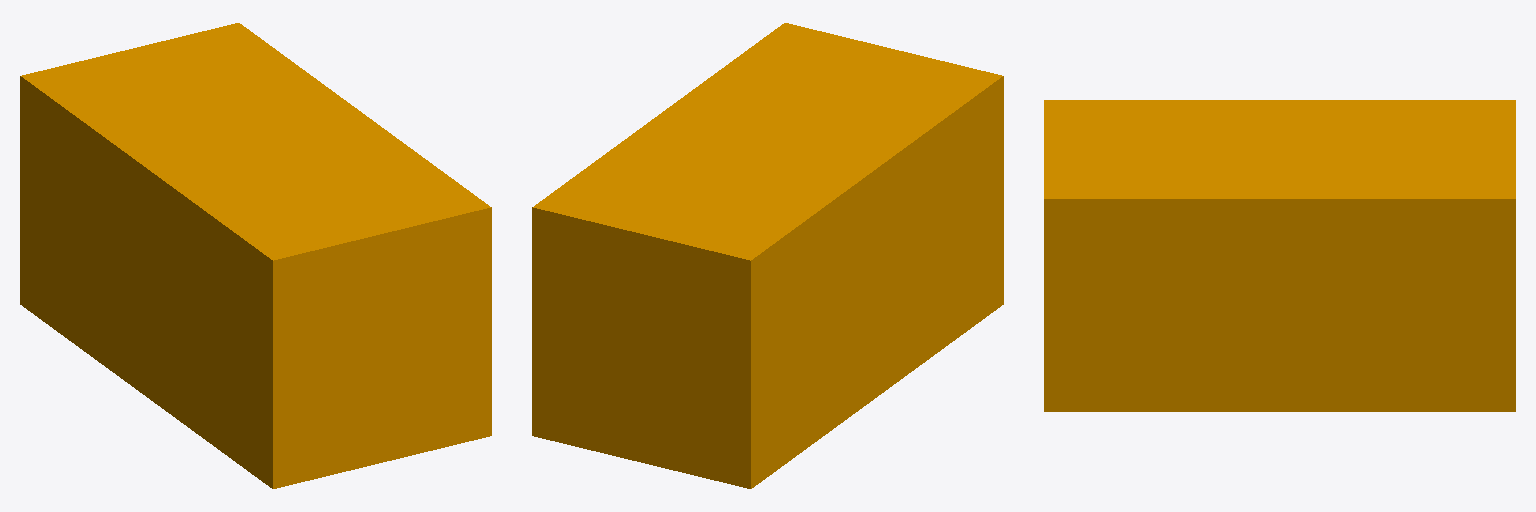
The robot description file, URDF, robot "cuboid":
<?xml version="1.0"?>
<robot name="cuboid">
  <link name="base_link">
    <contact>
      <lateral_friction value="1.5"/>
      <rolling_friction value="0.0"/>
      <contact_cfm value="0.0"/>
      <contact_erp value="1.0"/>
    </contact>
    <inertial>
      <mass value="0.035"/>
      <inertia ixx="1" ixy="0" ixz="0" iyy="1" iyz="0" izz="1"/>
    </inertial>
    <visual>
      <geometry>
        <box size="0.03 0.06 0.03"/>
      </geometry>
    </visual>
    <collision>
      <geometry>
        <box size="0.03 0.06 0.03"/>
      </geometry>
    </collision>
  </link>
</robot>

--- What the picture shows (computed from the rendered views, not written in the file) ---
The picture shows the robot from 3 angles, left to right: view 1: azimuth 30°, elevation 25°; view 2: azimuth 150°, elevation 25°; view 3: azimuth 270°, elevation 25°; orthographic projection.
Model cuboid with 1 links and 0 joints (none), rooted at base_link, posed all joints at 0.
Visible links, largest first — view 1: base_link; view 2: base_link; view 3: base_link.
Boxes of the visible links, x1=… form: base_link: x1=20, y1=23, x2=491, y2=488; base_link: x1=532, y1=23, x2=1003, y2=488; base_link: x1=1044, y1=100, x2=1515, y2=411.
Size in the robot's own frame: 0.03 by 0.06 by 0.03 metres.
Geometry: primitives only (box / cylinder / sphere), no mesh files.